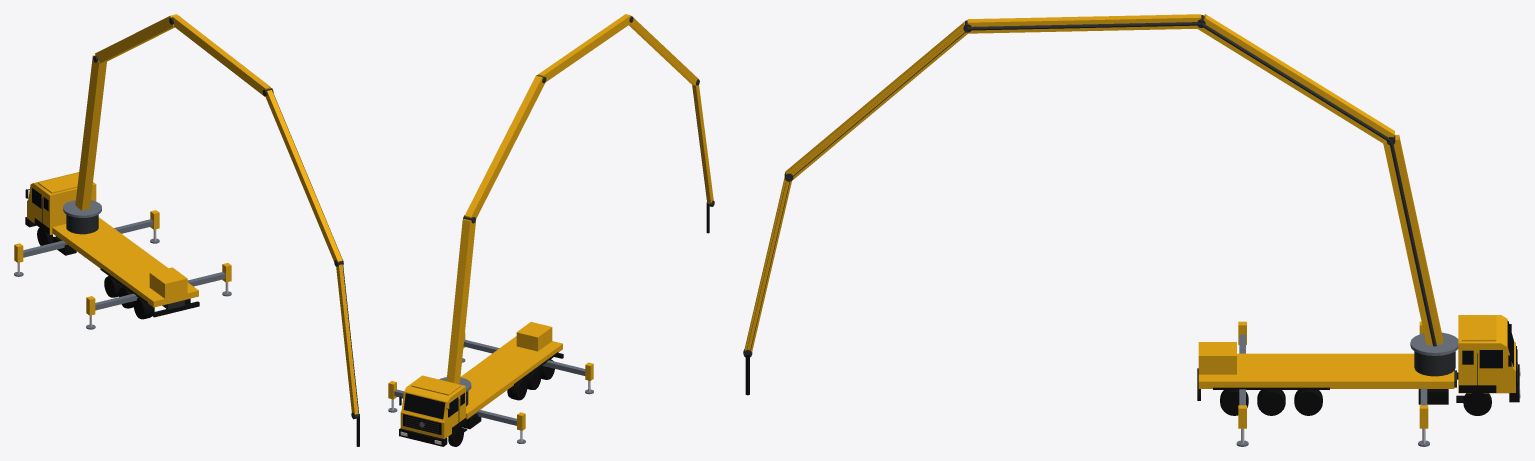
File: plant.truck.concrete_pump_deployed.glb
The picture shows the model from 3 angles, left to right: view 1: azimuth 30°, elevation 25°; view 2: azimuth 150°, elevation 25°; view 3: azimuth 270°, elevation 25°; orthographic projection. The views are drawn at different scales.
Parts seen in each view (by area): view 1: boom__plant_yellow, body__plant_yellow, chassis__plant_yellow, outriggers__steel_painted, wheels__rubber, chassis__plastic_black, outriggers__plant_yellow, boom__steel_dark, body__steel_dark, body__steel_painted; view 2: boom__plant_yellow, body__plant_yellow, chassis__plant_yellow, chassis__plastic_black, outriggers__steel_painted, wheels__rubber, chassis__glass_dark, outriggers__plant_yellow; view 3: boom__plant_yellow, body__plant_yellow, boom__steel_dark, chassis__plant_yellow, wheels__rubber, chassis__plastic_black, body__steel_dark, chassis__glass_dark, body__steel_painted.
Boxes of the visible parts, x1,y1,x2,y2 form: boom__plant_yellow: (75,14,358,414); body__plant_yellow: (52,217,198,307); chassis__plant_yellow: (27,172,96,234); outriggers__steel_painted: (14,219,231,329); wheels__rubber: (37,227,190,319); chassis__plastic_black: (25,189,199,317); outriggers__plant_yellow: (14,210,231,315); boom__steel_dark: (93,17,359,419); body__steel_dark: (66,214,98,234); body__steel_painted: (63,200,101,217); boom__plant_yellow: (446,14,713,383); body__plant_yellow: (460,322,562,419); chassis__plant_yellow: (400,375,465,438); chassis__plastic_black: (399,352,563,446); outriggers__steel_painted: (388,339,593,443); wheels__rubber: (448,359,554,446); chassis__glass_dark: (403,392,464,419); outriggers__plant_yellow: (388,332,593,430); boom__plant_yellow: (744,14,1442,352); body__plant_yellow: (1198,342,1454,388); boom__steel_dark: (743,15,1436,357); chassis__plant_yellow: (1458,315,1515,393); wheels__rubber: (1220,390,1491,415); chassis__plastic_black: (1197,324,1519,404); body__steel_dark: (1414,351,1455,376); chassis__glass_dark: (1462,321,1513,368); body__steel_painted: (1410,332,1458,355).
Bounding box in the file's own units: 7.64 × 15.52 × 28.27.
